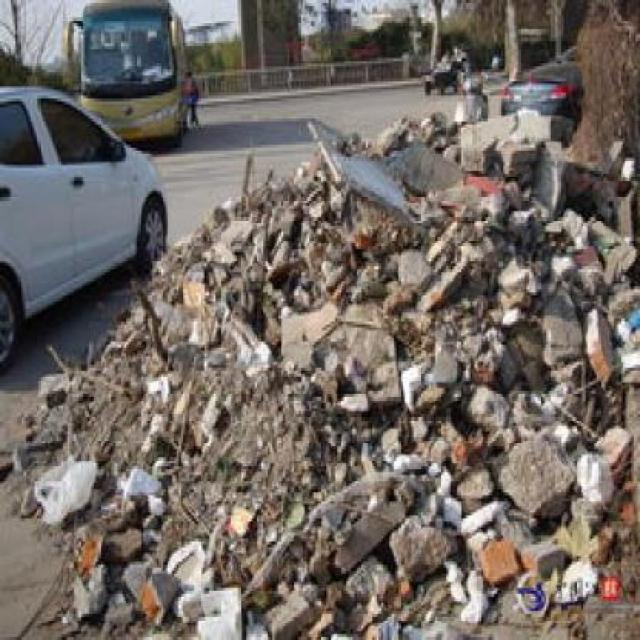garbage: (302, 111, 633, 630), (143, 170, 293, 633), (42, 342, 142, 626)
